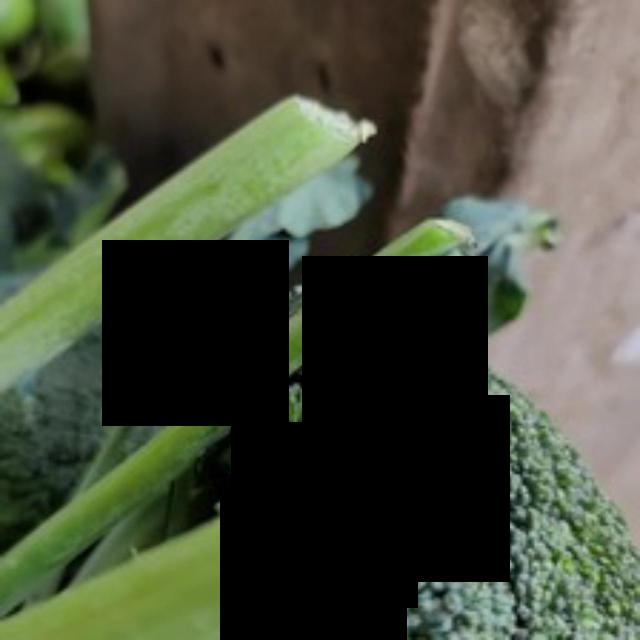broccoli: (188, 317, 637, 637)
